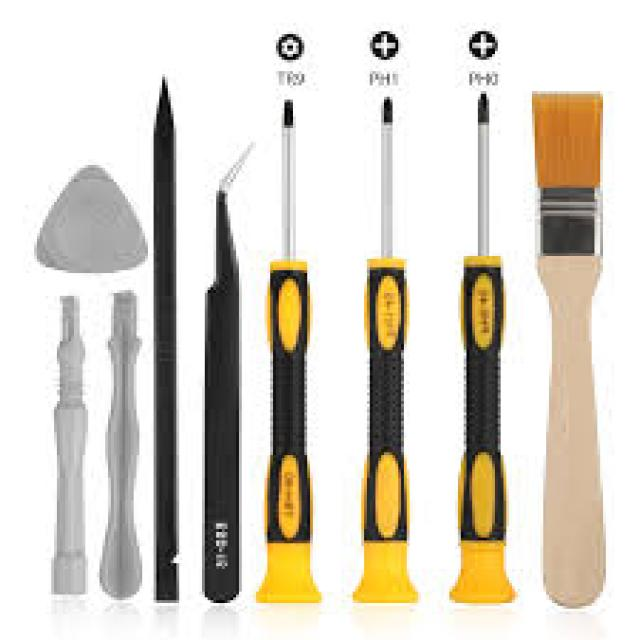screw driver: (246, 72, 346, 612), (438, 76, 536, 616), (345, 93, 428, 608)
